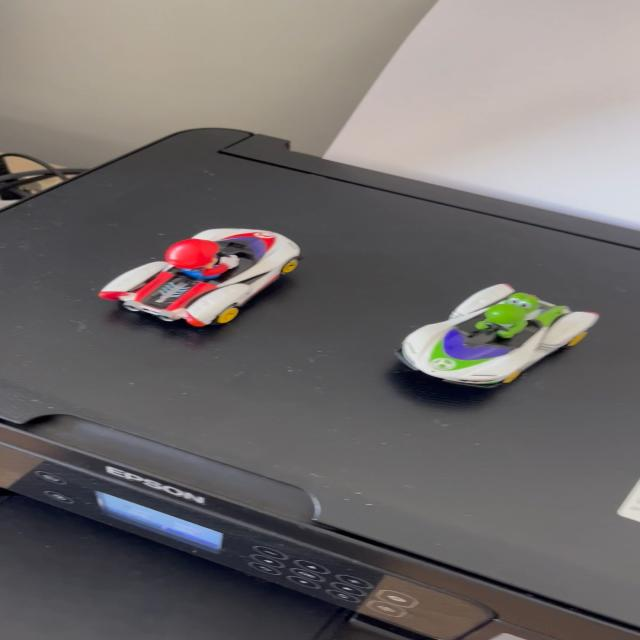mario: (80, 225, 316, 335)
yoshi: (382, 278, 606, 400)
